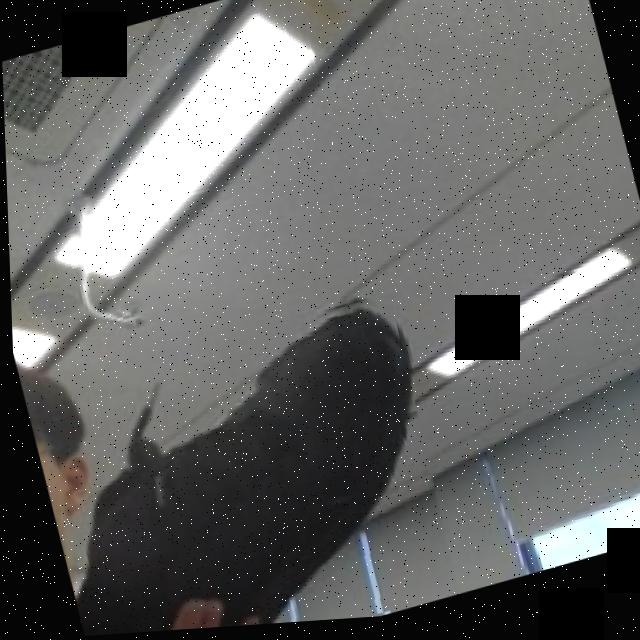shoe: (16, 285, 461, 640)
